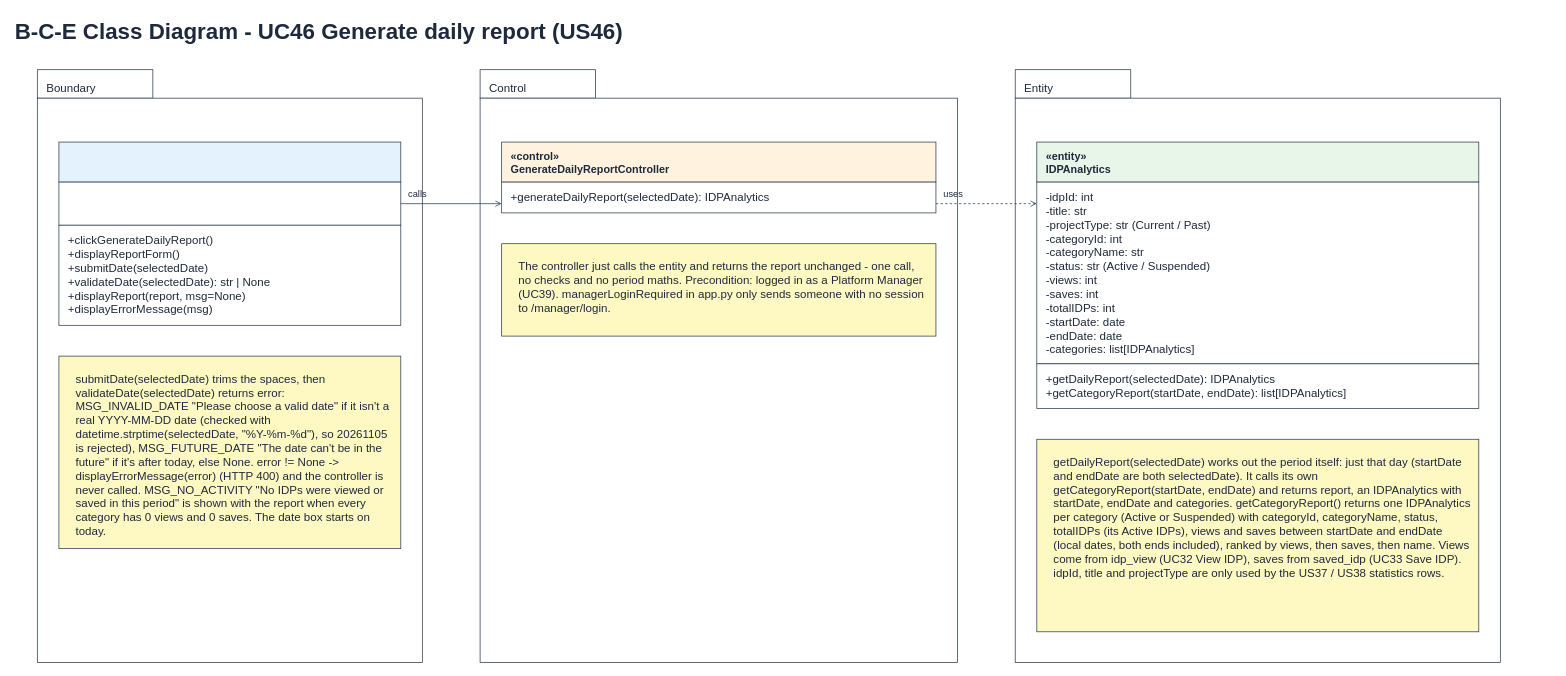
Image size: 1566x676. Some labels were removed from this diagram. Each missing label, with the centre of its shape:
-generateDailyReportController: GenerateDailyReportController -selectedDate: str: pixel 229 203
«boundary» GenerateDailyReportPage: pixel 229 161
